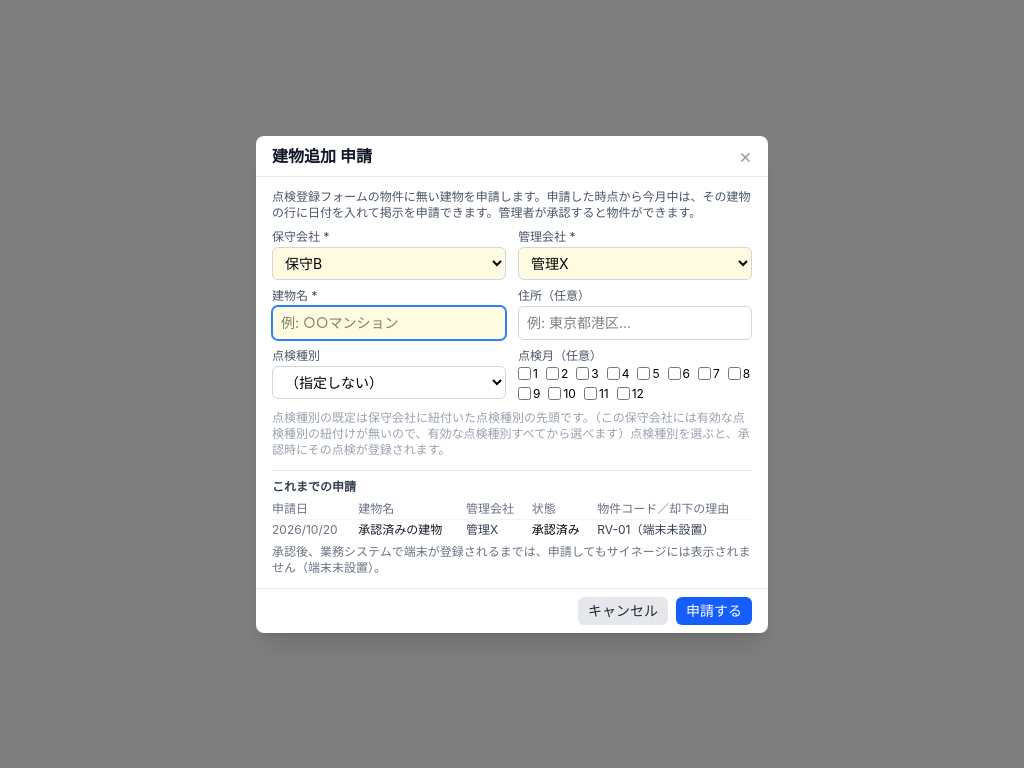
Test case: BuildingRequestModal（管理者・点検種別を指定しない） › 紐付けの無い保守会社は既定が「指定しない」で、申請後は点検予定の行が出ない旨と端末の注意を出す
Expected: the text "この保守会社には有効な点検種別の紐付けが無いので" is shown, x1=272 y1=410 x2=745 y2=440
Expected: the dropdown with id "buildingRequestInspectionType" shows "（指定しない）", x1=272 y1=366 x2=506 y2=398
Type "新築マンション" into the field with id "buildingRequestName" at (389, 322), box x1=272 y1=306 x2=506 y2=340
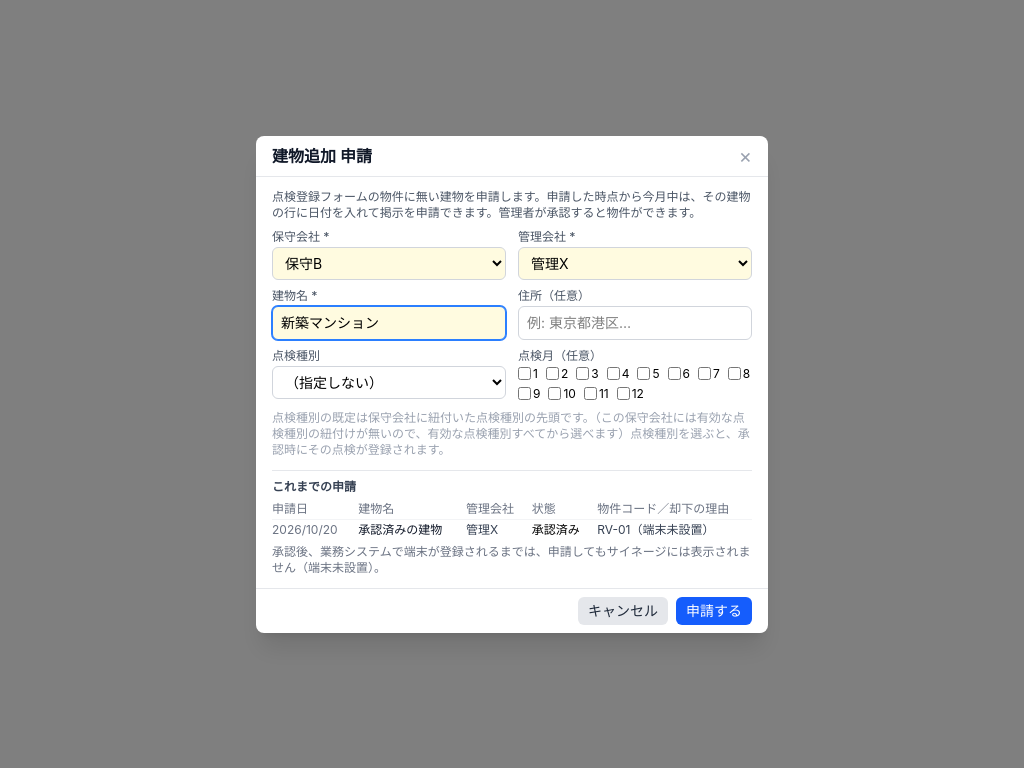
Click the button "申請する" at (714, 610), box x1=676 y1=596 x2=752 y2=624
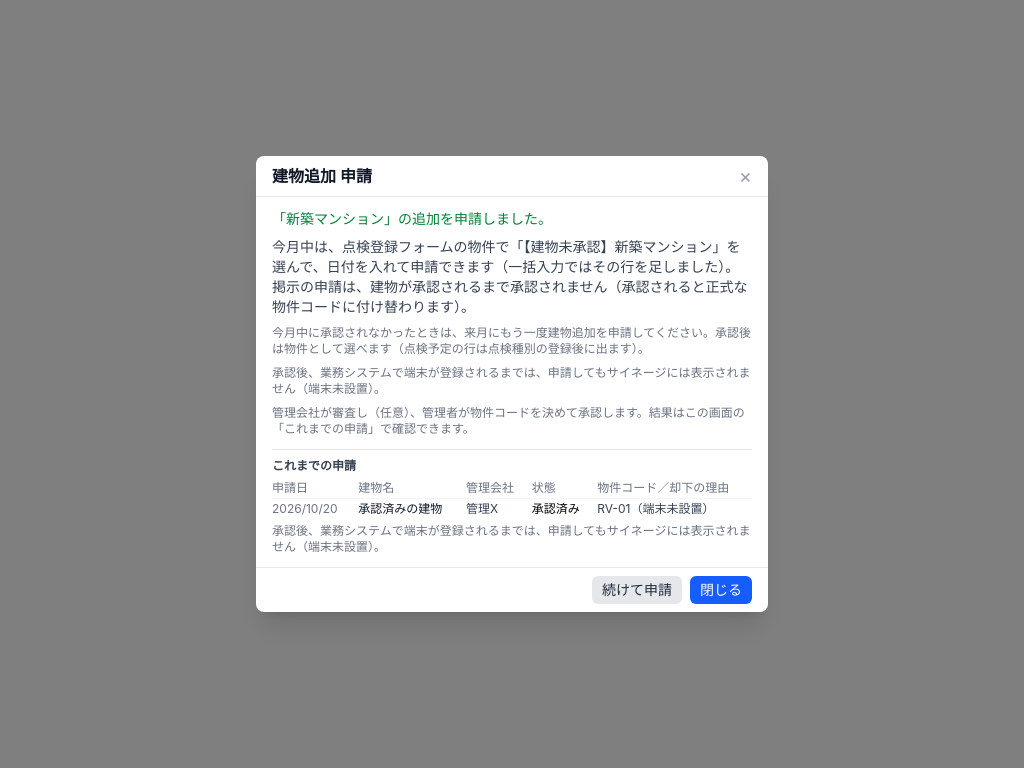
Expected: the text "承認後は物件として選べます（点検予定の行は点検種別の登録後に出ます）。" is shown, x1=272 y1=325 x2=751 y2=356
